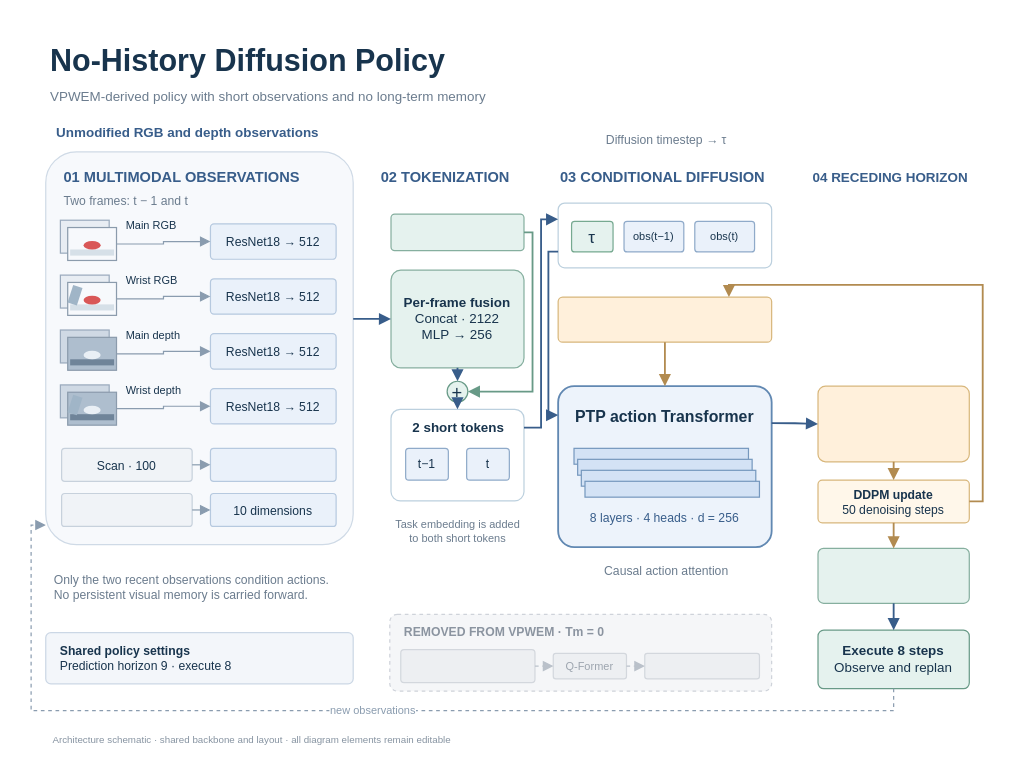
This 1017x773 diagram has some shape labels left out. The centre of each missing label's shape, as x and y in pixels:
"2 episodic tokens" belongs at pixel 701 665.
"Action chunk 9 × 10" belongs at pixel 893 575.
"Noisy action chunk xₖ · 9 × 10" belongs at pixel 664 319.
"Observation + summary caches" belongs at pixel 467 665.
"Predict noise εθ · 9 × 10" belongs at pixel 893 423.
"Proprioception" belongs at pixel 126 509.
"ScanCore → 64" belongs at pixel 272 464.
"Task ID (5) → Embedding" belongs at pixel 457 232.
